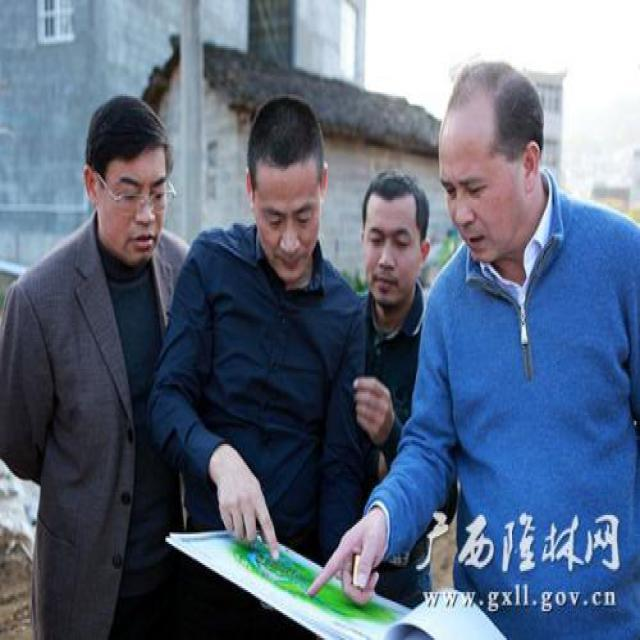head: (436, 57, 557, 268), (242, 88, 333, 282), (83, 88, 179, 261), (356, 163, 431, 307)
person: (415, 42, 640, 640), (4, 90, 194, 627), (176, 86, 366, 622), (343, 162, 446, 564)
